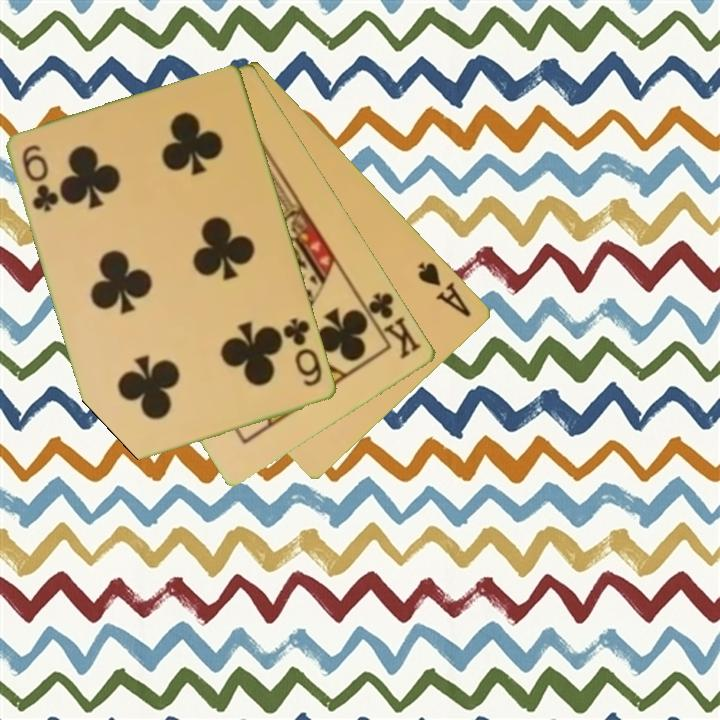6c: (280, 314, 326, 390), (19, 141, 62, 215)
As: (414, 258, 475, 320)
Kc: (358, 289, 425, 362)
